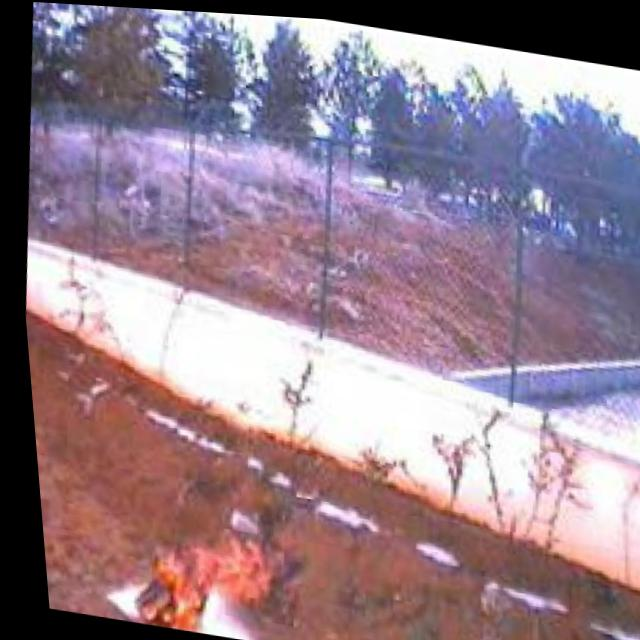Fire: (108, 513, 271, 640)
